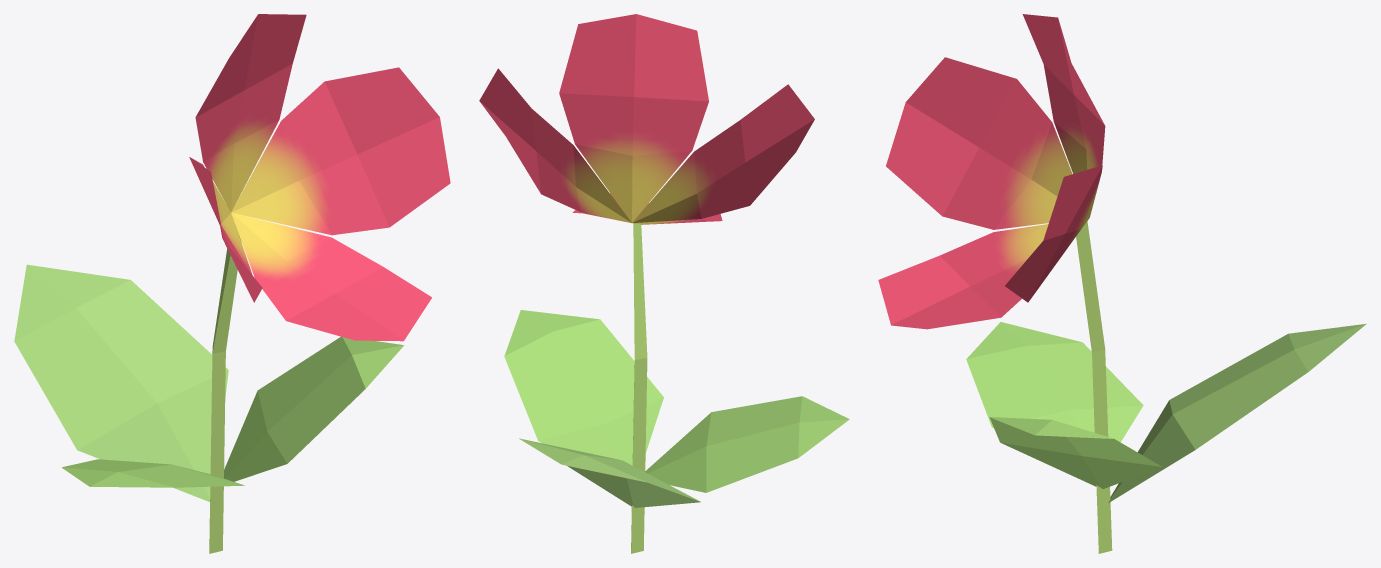
Rendered from Flower_c_TwoS_09.fbx.
The picture shows the model from 3 angles, left to right: view 1: azimuth 30°, elevation 25°; view 2: azimuth 150°, elevation 25°; view 3: azimuth 270°, elevation 25°; orthographic projection. The views are drawn at different scales.
Visible parts, largest first — view 1: Flower_c_TwoS_09; view 2: Flower_c_TwoS_09; view 3: Flower_c_TwoS_09.
Boxes of the visible parts, left/top/right/bottom form: Flower_c_TwoS_09: left=14, top=14, right=450, bottom=553; Flower_c_TwoS_09: left=479, top=14, right=849, bottom=553; Flower_c_TwoS_09: left=878, top=14, right=1366, bottom=553.
Bounding box in the file's own units: 0.3325 × 0.4683 × 0.3813.
